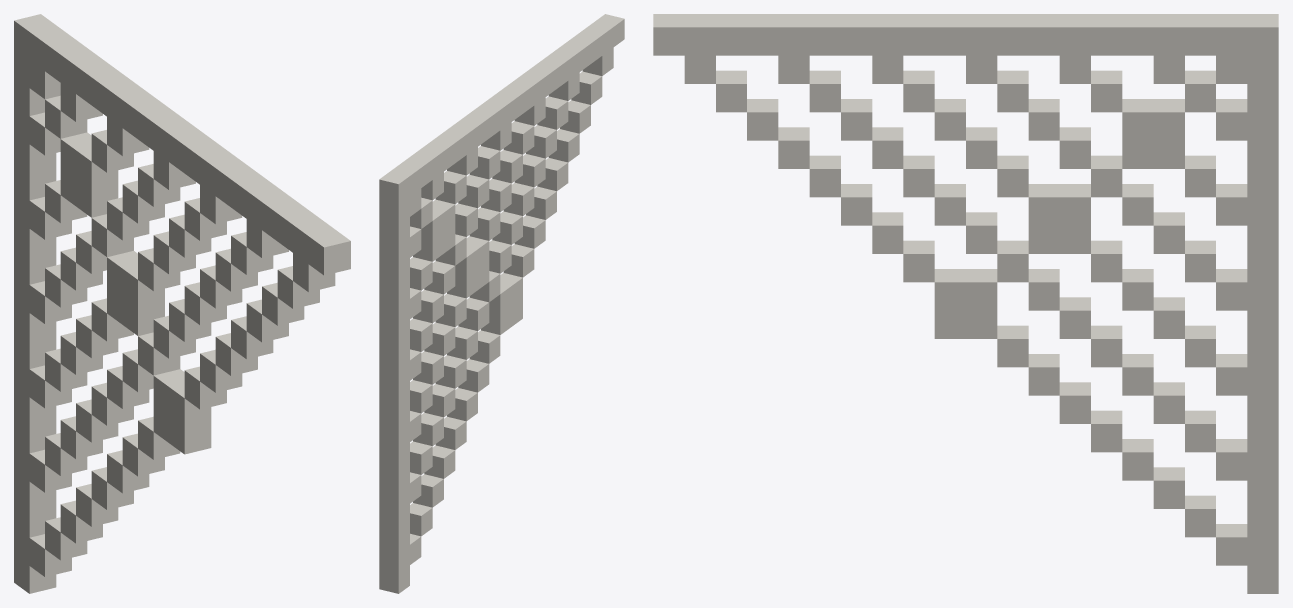
The model's file is Spider_Web_00.fbx.
3 views of the same model, side by side, from view 1: azimuth 30°, elevation 25°; view 2: azimuth 150°, elevation 25°; view 3: azimuth 270°, elevation 25° (orthographic). The views are drawn at different scales.
Parts seen in each view (by area): view 1: Spider_Web_00; view 2: Spider_Web_00; view 3: Spider_Web_00.
Boxes of the visible parts, x1,y1,x2,y2 form: Spider_Web_00: [14, 14, 350, 593]; Spider_Web_00: [379, 14, 624, 593]; Spider_Web_00: [653, 14, 1278, 593].
Bounding box in the file's own units: 5 × 100 × 100.
